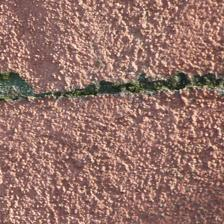Crack: (3, 32, 220, 79)
